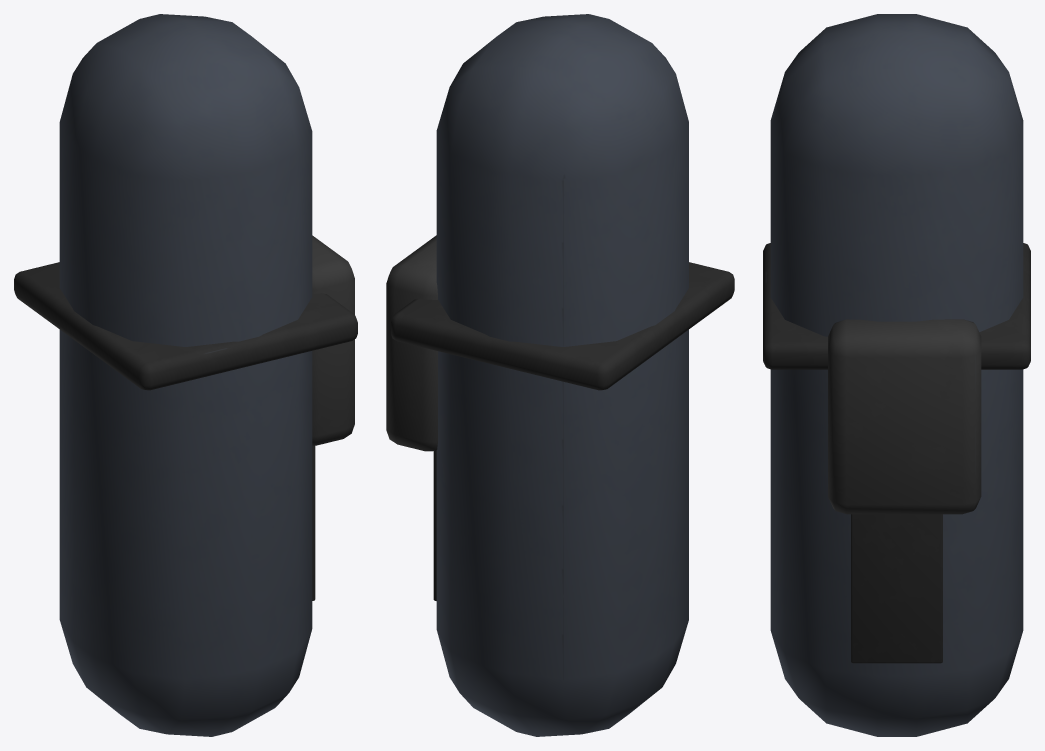
The model's file is SM_OperatorBThigh.fbx.
3 views of the same model, side by side, from view 1: azimuth 30°, elevation 25°; view 2: azimuth 150°, elevation 25°; view 3: azimuth 270°, elevation 25° (orthographic).
Visible parts, largest first — view 1: SM_OperatorBThigh; view 2: SM_OperatorBThigh; view 3: SM_OperatorBThigh.
Boxes of the visible parts, left/top/right/bottom form: SM_OperatorBThigh: left=14, top=14, right=357, bottom=736; SM_OperatorBThigh: left=386, top=14, right=734, bottom=736; SM_OperatorBThigh: left=763, top=14, right=1030, bottom=736.
Bounding box in the file's own units: 0.19 × 0.5 × 0.175.
1 material, 1 textured.
